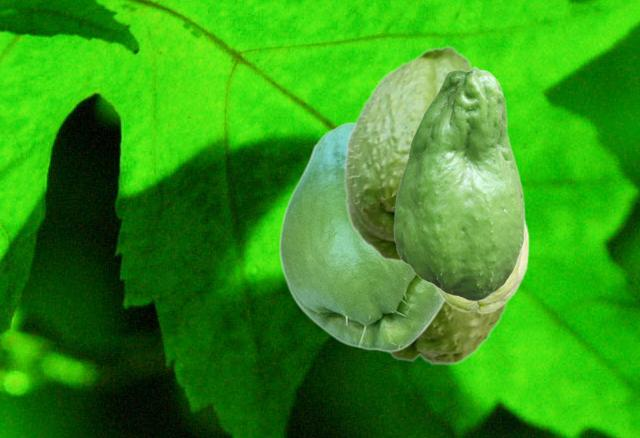sayote: (278, 122, 444, 352), (393, 66, 524, 300), (343, 44, 472, 263), (430, 212, 528, 313), (387, 303, 508, 365)
